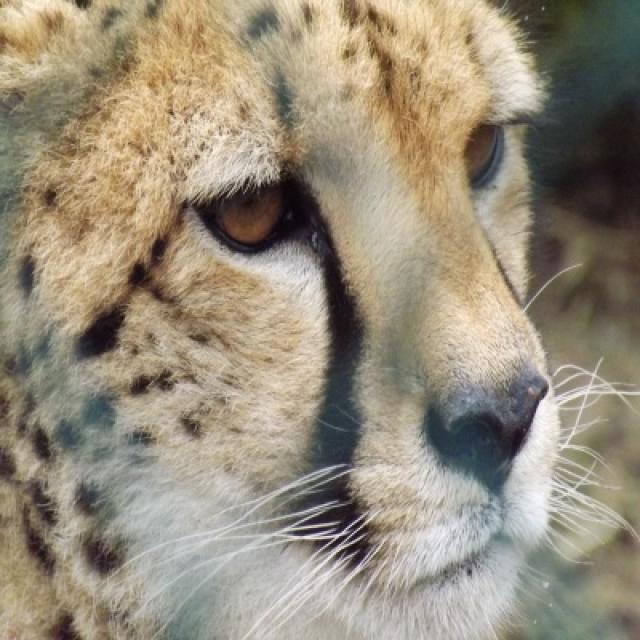Cheetah: (0, 0, 563, 638)
